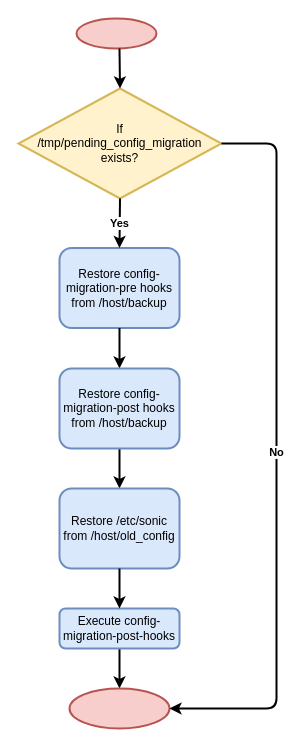
The diagram is 302 pixels wide and 746 high, and some of its shapes have lost their labels. Each missing label, with the centre of its shape:
"End" goes at (x=119, y=708).
"Start" goes at (x=116, y=33).
